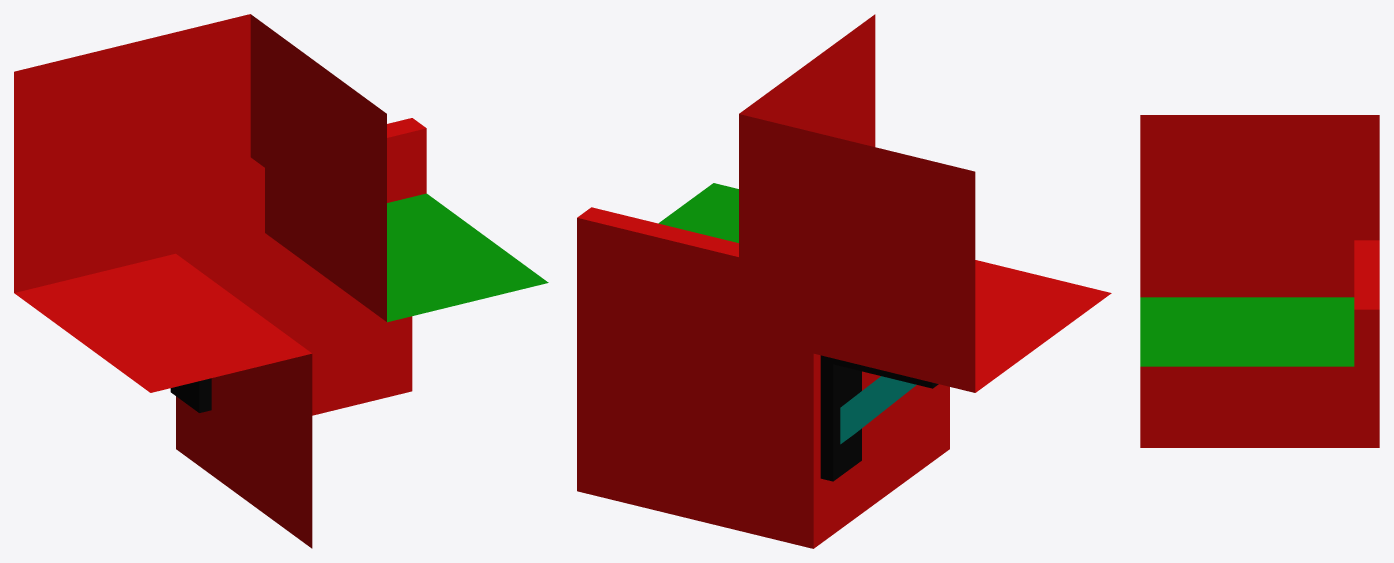
3 renders of one model, left to right at view 1: azimuth 30°, elevation 25°; view 2: azimuth 150°, elevation 25°; view 3: azimuth 270°, elevation 25°, orthographic. The views are drawn at different scales.
Parts seen in each view (by area): view 1: None_E_W_E_E_E_E_E_A_None; view 2: None_E_W_E_E_E_E_E_A_None; view 3: None_E_W_E_E_E_E_E_A_None.
Part boxes in pixels (left/top/right/bottom): None_E_W_E_E_E_E_E_A_None: left=14, top=14, right=548, bottom=548; None_E_W_E_E_E_E_E_A_None: left=577, top=14, right=1111, bottom=548; None_E_W_E_E_E_E_E_A_None: left=1140, top=115, right=1379, bottom=447.
Bounding box in the file's own units: 100 × 100 × 59.38.
